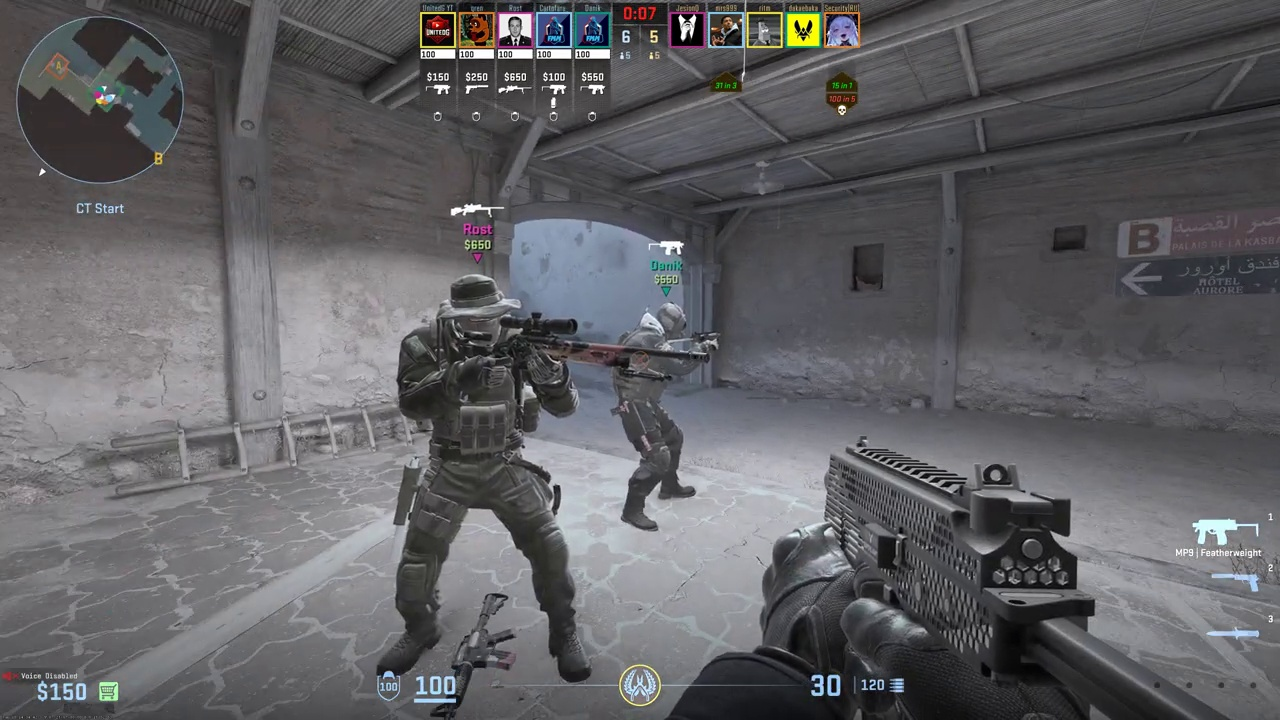CT: (389, 277, 580, 680), (614, 302, 694, 529)
